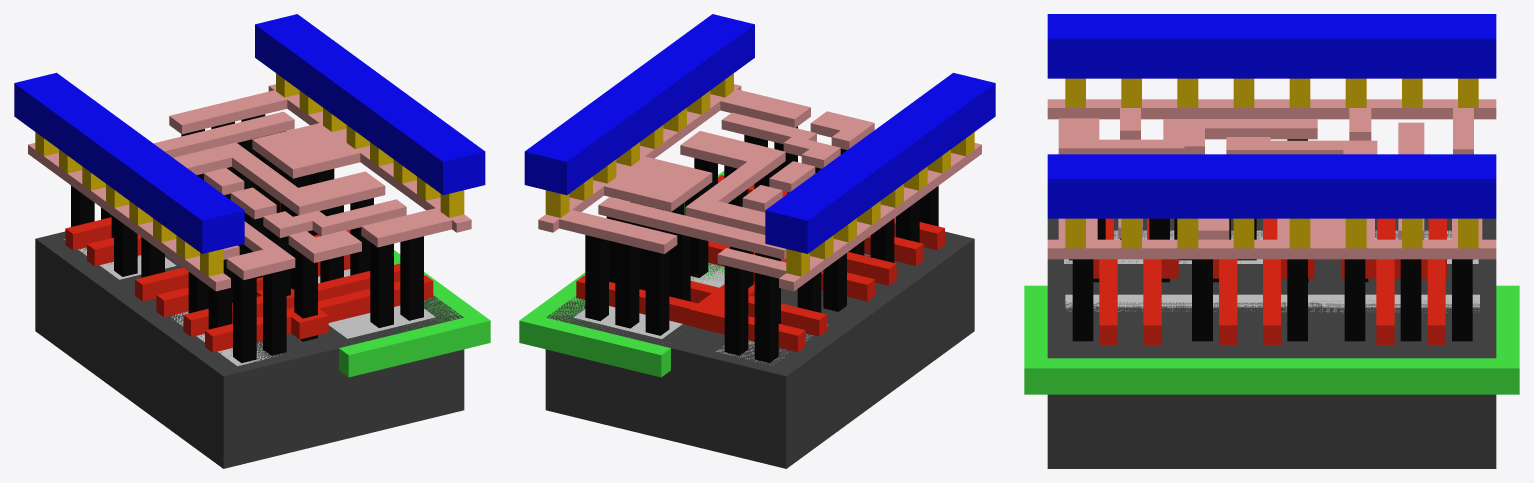
File: sky130_fd_sc_hd__o22a_2.obj
3 renders of one model, left to right at view 1: azimuth 30°, elevation 25°; view 2: azimuth 150°, elevation 25°; view 3: azimuth 270°, elevation 25°, orthographic. The views are drawn at different scales.
Parts seen in each view (by area): view 1: subs, metal1, li, licon, poly, nwell, mcon, tap, diff; view 2: subs, metal1, li, licon, poly, nwell, mcon, tap; view 3: metal1, subs, li, nwell, poly, licon, mcon, tap, diff.
Boxes of the visible parts, x1,y1,x2,y2 form: subs: [35, 231, 464, 468]; metal1: [14, 14, 485, 253]; li: [28, 84, 471, 291]; licon: [71, 114, 423, 363]; poly: [65, 202, 433, 352]; nwell: [339, 250, 490, 377]; mcon: [35, 73, 464, 276]; tap: [318, 269, 435, 338]; diff: [64, 239, 280, 365]; subs: [545, 231, 974, 468]; metal1: [524, 14, 995, 253]; li: [538, 84, 981, 291]; licon: [585, 126, 938, 362]; poly: [576, 175, 944, 352]; nwell: [519, 171, 724, 377]; mcon: [545, 73, 974, 276]; tap: [574, 263, 724, 338]; metal1: [1047, 14, 1496, 218]; subs: [1047, 218, 1496, 468]; li: [1047, 99, 1496, 259]; nwell: [1024, 285, 1519, 394]; poly: [1093, 218, 1446, 345]; licon: [1069, 139, 1473, 341]; mcon: [1065, 78, 1478, 248]; tap: [1065, 294, 1479, 312]; diff: [1064, 230, 1478, 263].
Size of the model in its own units: 3.2 by 2.74 by 4.06.
